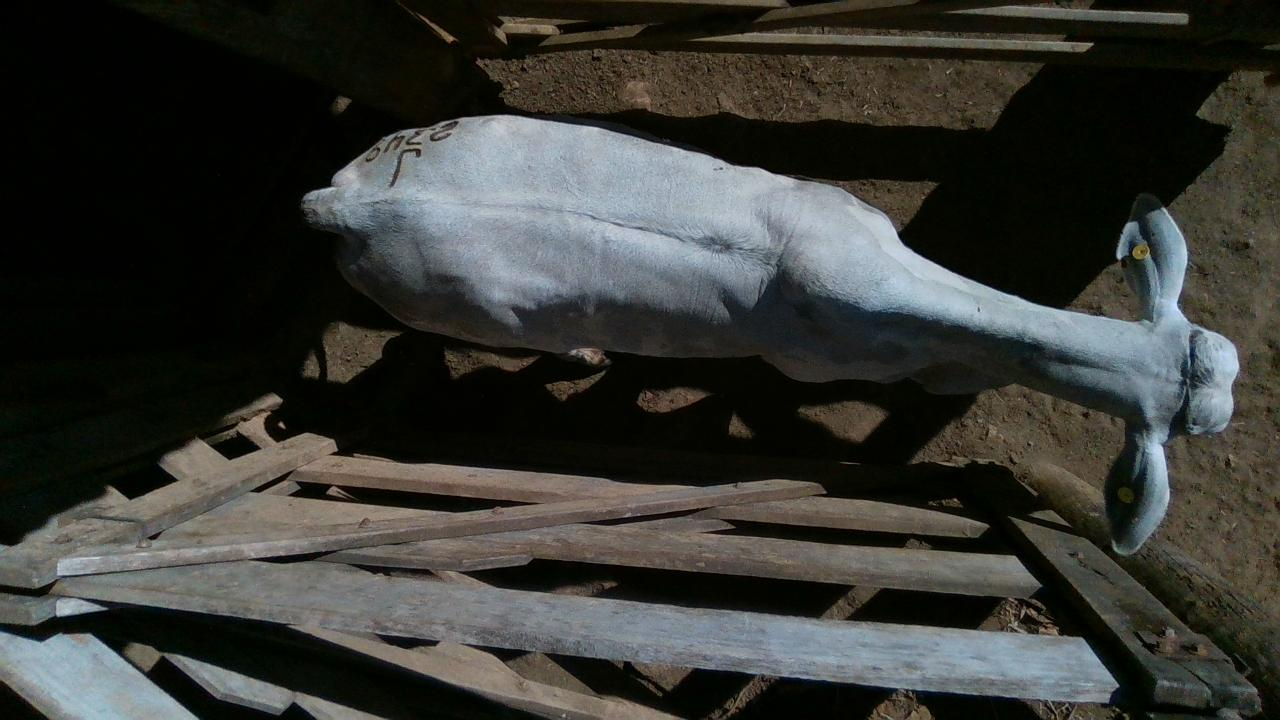cattle: (299, 111, 1240, 556)
